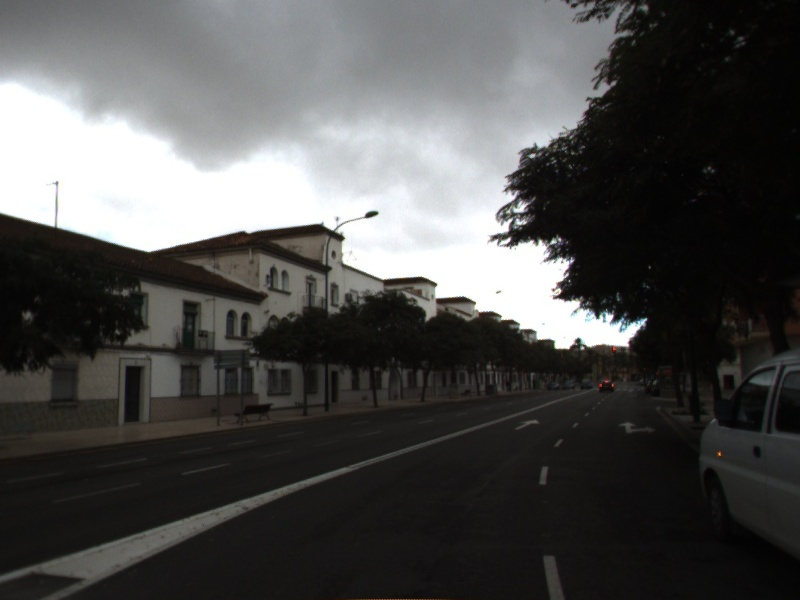STRAIGHT: (512, 418, 542, 432)
STRAIGHT_RIGHT: (617, 420, 658, 435)
